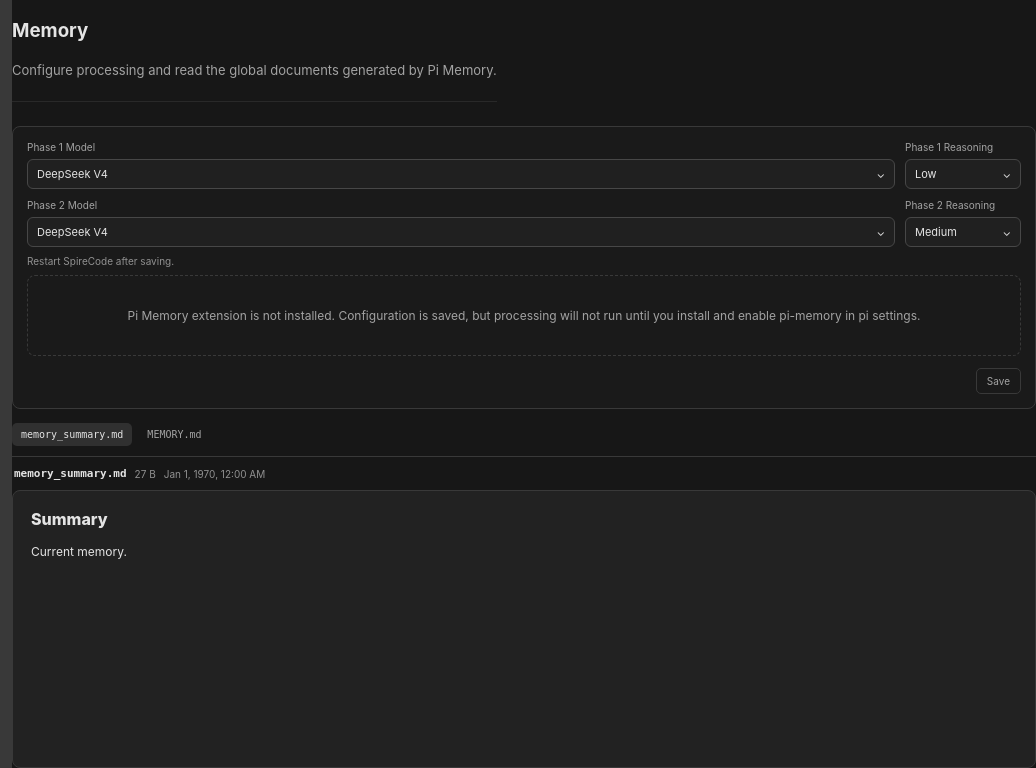
Test: MemorySettings › loads the summary and switches documents without refresh
This screenshot has width=1036, height=768.
Expected: the heading "Summary" is shown, x1=31 y1=509 x2=108 y2=529
What coordinates should you click on to do the following:
click the button "MEMORY.md"
I would click on:
 (174, 435)
Its box is x1=138 y1=423 x2=211 y2=446.
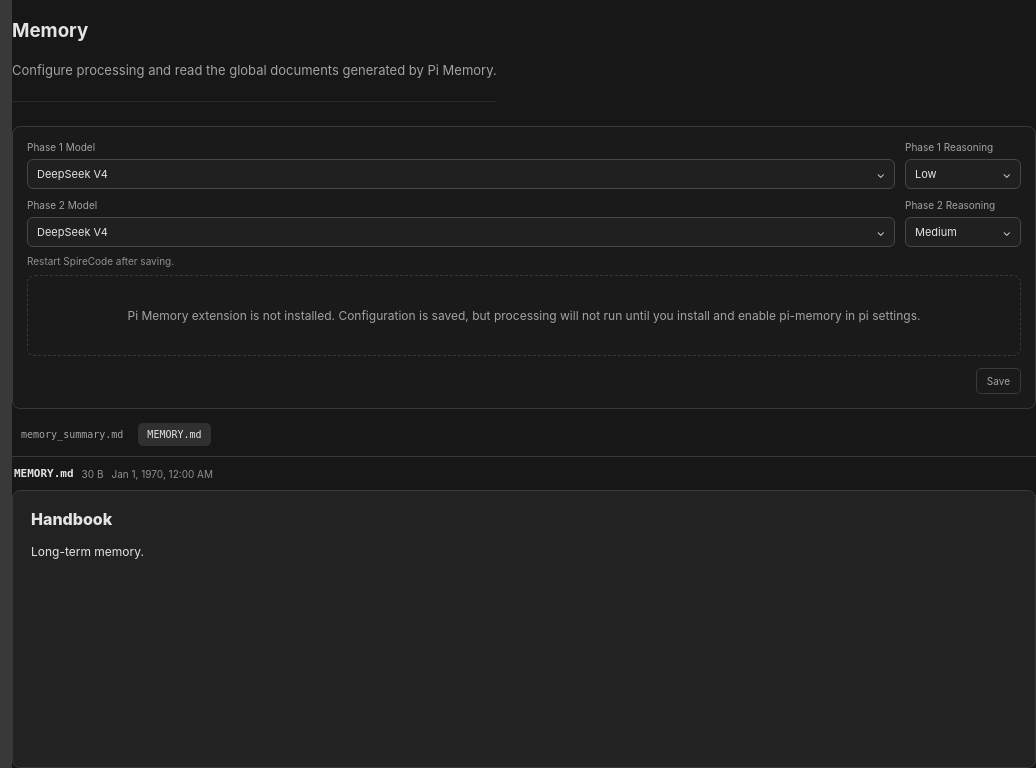
Result: the heading "Handbook" is shown at x1=31 y1=509 x2=112 y2=529
